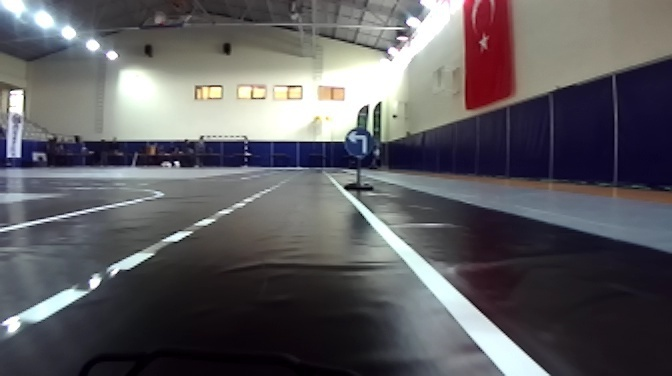sola_donus: (344, 121, 379, 163)
